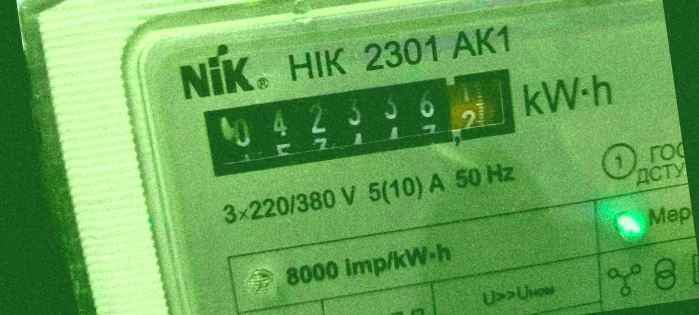0: (228, 114, 252, 149)
1: (455, 77, 471, 104)
2: (303, 99, 328, 136), (457, 107, 476, 131)
3: (339, 93, 362, 127), (378, 88, 399, 122)
4: (267, 105, 289, 139)
6: (413, 85, 438, 121)
screen: (187, 52, 532, 189)
